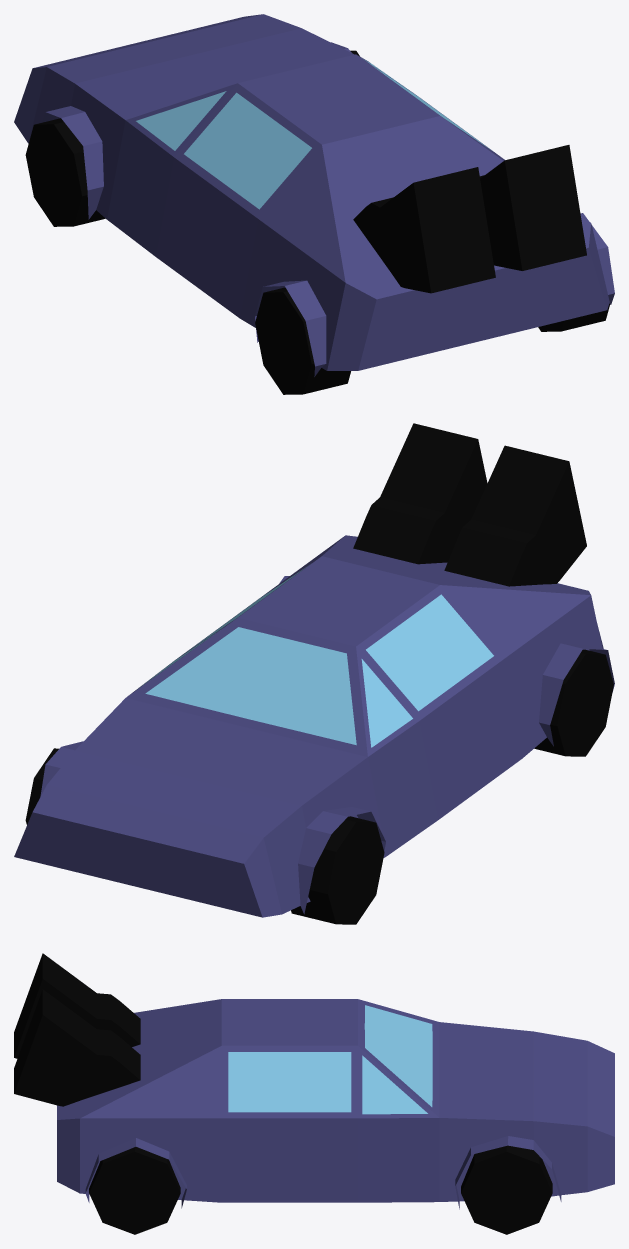
The model's file is auto.fbx.
The picture shows the model from 3 angles, top to bottom: view 1: azimuth 30°, elevation 25°; view 2: azimuth 150°, elevation 25°; view 3: azimuth 270°, elevation 25°; orthographic projection. The views are drawn at different scales.
Visible parts, largest first — view 1: Cube, Cube.001, Cylinder; view 2: Cube, Cube.001, Cylinder; view 3: Cube, Cube.001, Cylinder.
Part boxes in pixels (box(x1,y1,x2,y2)): Cube: box(14, 14, 614, 376); Cube.001: box(353, 145, 586, 293); Cylinder: box(25, 50, 609, 394); Cube: box(14, 535, 614, 917); Cube.001: box(353, 423, 586, 586); Cylinder: box(25, 649, 613, 924); Cube: box(57, 999, 614, 1209); Cube.001: box(14, 953, 140, 1106); Cylinder: box(89, 1145, 552, 1234).
Bounding box in the file's own units: 285 × 213 × 606.
